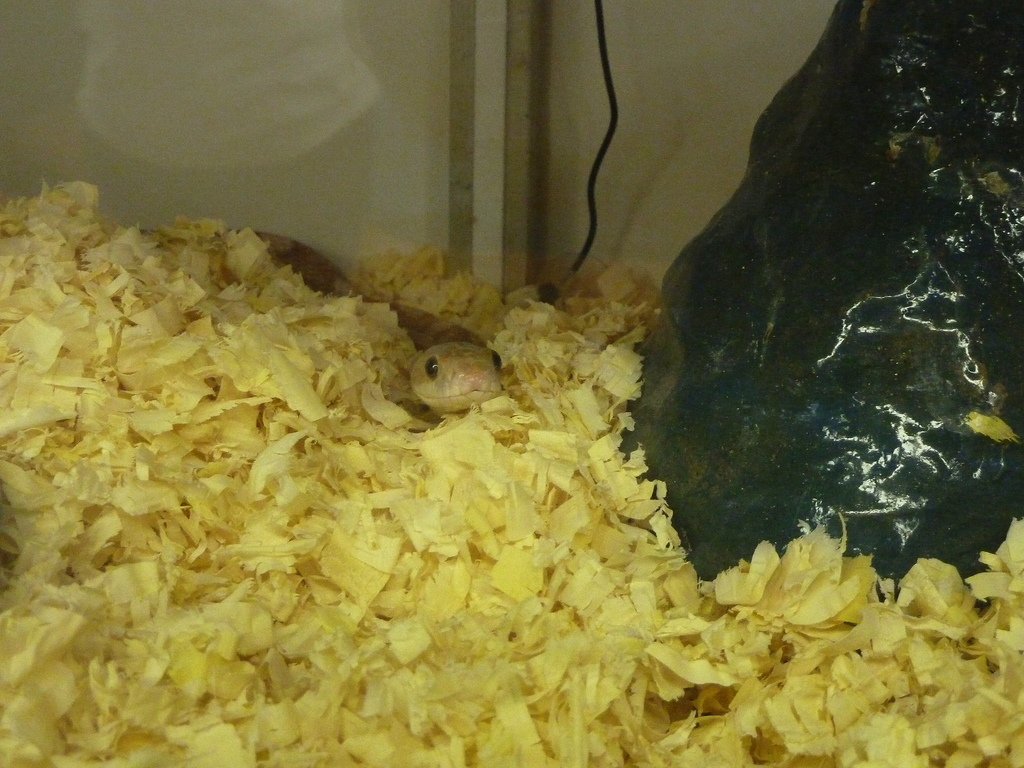Animal: (251, 224, 510, 421)
